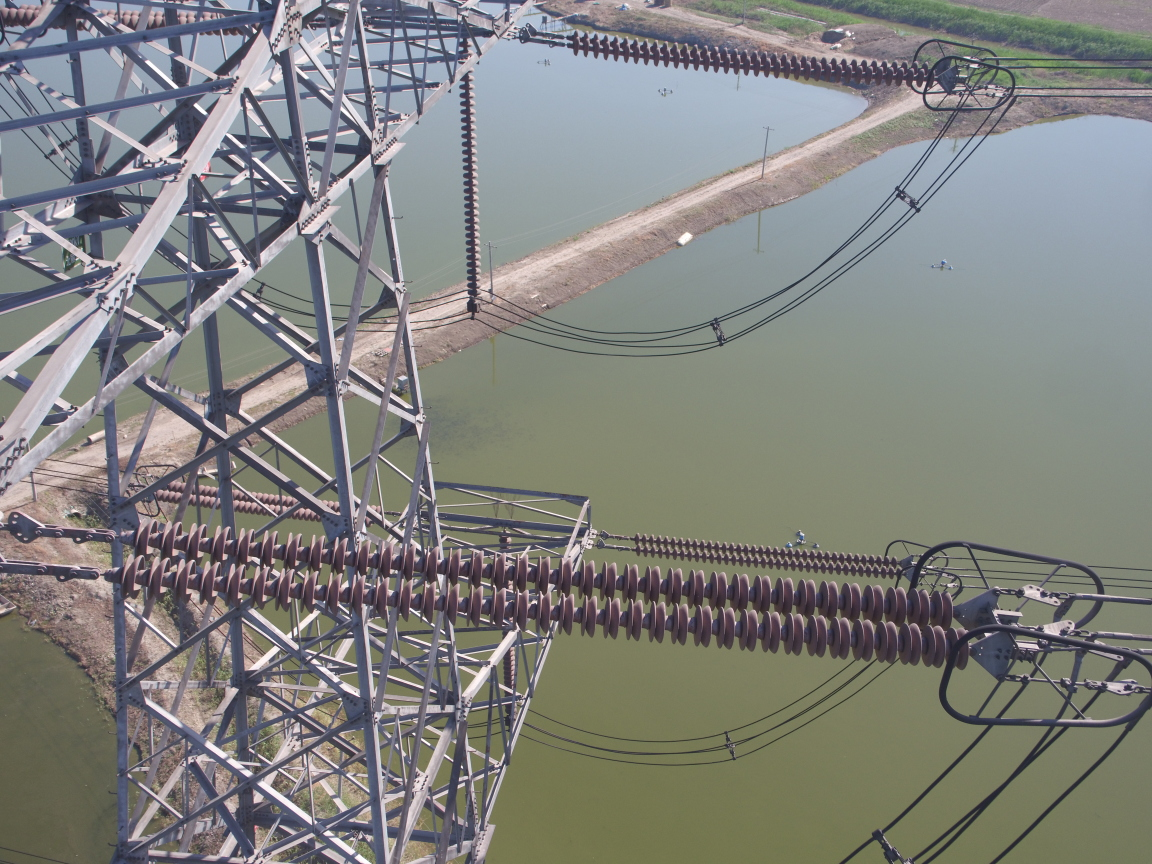insulator: (70, 517, 982, 672), (549, 28, 944, 90), (617, 530, 905, 582)
